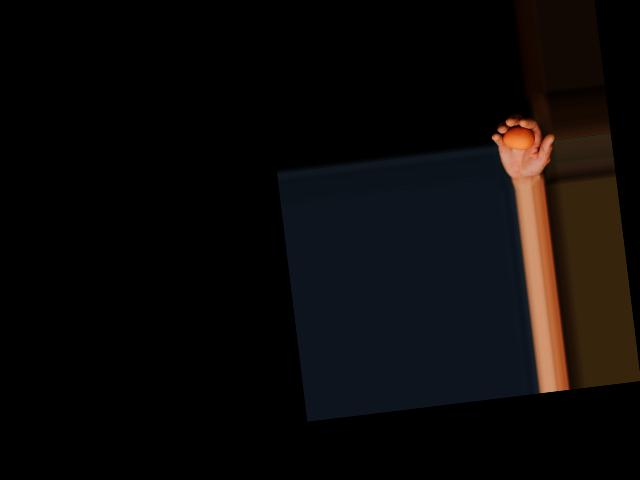egg: (501, 125, 535, 152)
